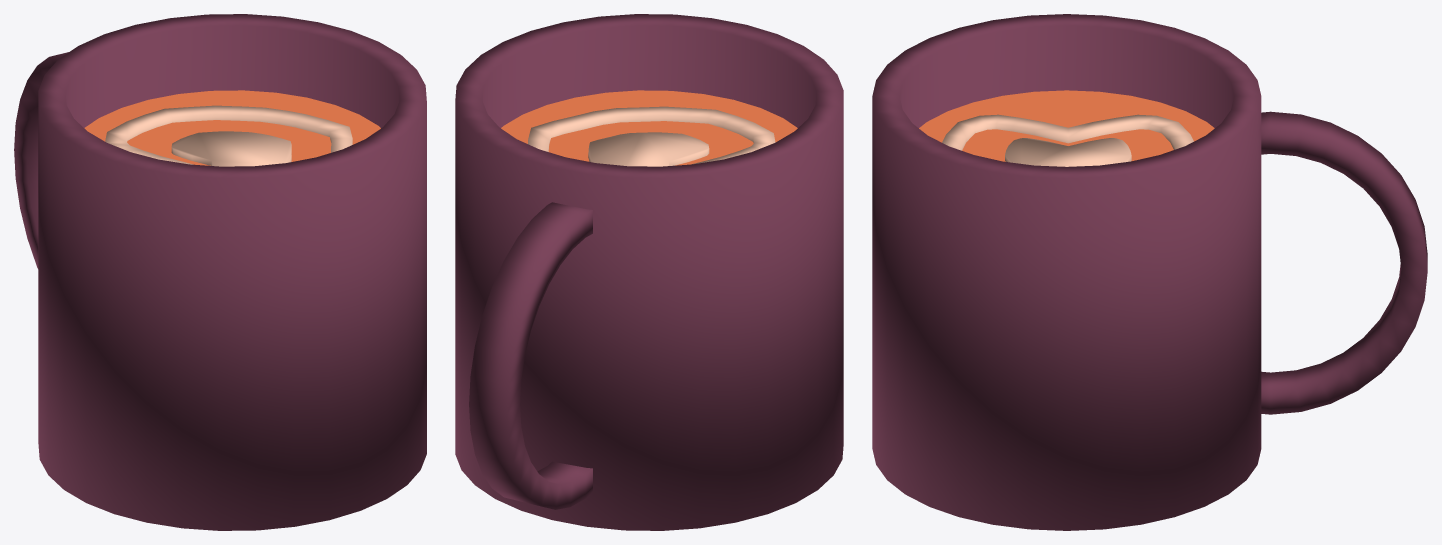
The model's file is kawa-mleko.gltf.
3 renders of one model, left to right at view 1: azimuth 30°, elevation 25°; view 2: azimuth 150°, elevation 25°; view 3: azimuth 270°, elevation 25°, orthographic.
Parts seen in each view (by area): view 1: Cylinder, Circle.001, Circle.002, Circle; view 2: Cylinder, Circle, Circle.001, Circle.002; view 3: Cylinder, Circle, Circle.001, Circle.002.
Part boxes in pixels (x1,y1,x2,y2): Cylinder: [38, 14, 426, 530]; Circle.001: [84, 90, 380, 165]; Circle.002: [105, 105, 352, 166]; Circle: [14, 52, 68, 268]; Cylinder: [455, 14, 843, 530]; Circle: [469, 202, 592, 509]; Circle.001: [501, 90, 797, 165]; Circle.002: [528, 106, 775, 166]; Cylinder: [872, 14, 1261, 530]; Circle: [1261, 111, 1427, 414]; Circle.001: [919, 90, 1214, 161]; Circle.002: [942, 114, 1193, 166].
Size of the model in its own units: 2 by 2 by 2.85.
1 material, 1 textured.
